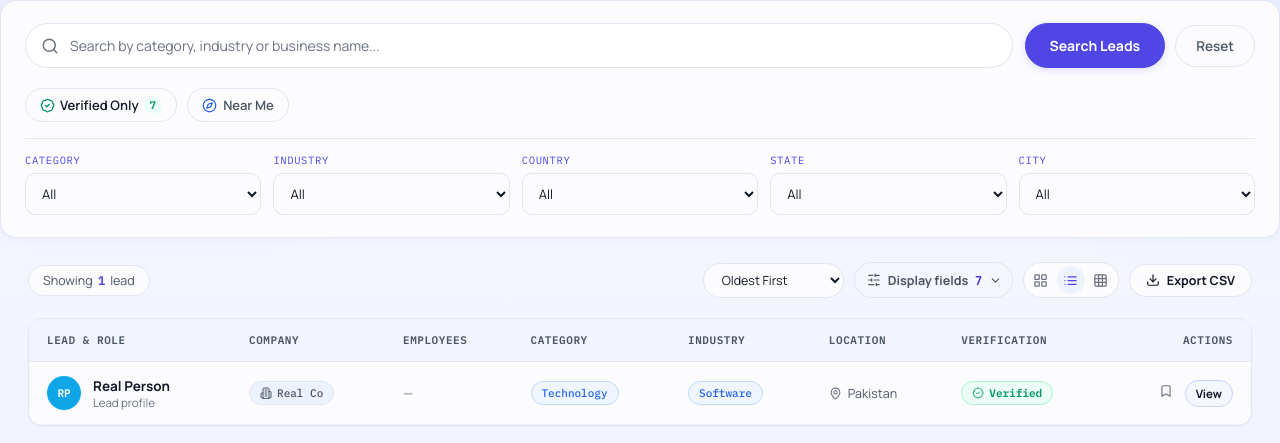
Test: DirectoryPage filters reach the API › sends the selected category
Expected: the text "Real Person" is shown, [93,376,170,394]
Select "Technology (12)" in the 1st dropdown with class "app-filter-dropdown-select" at (143, 194), box [25,173,261,215]
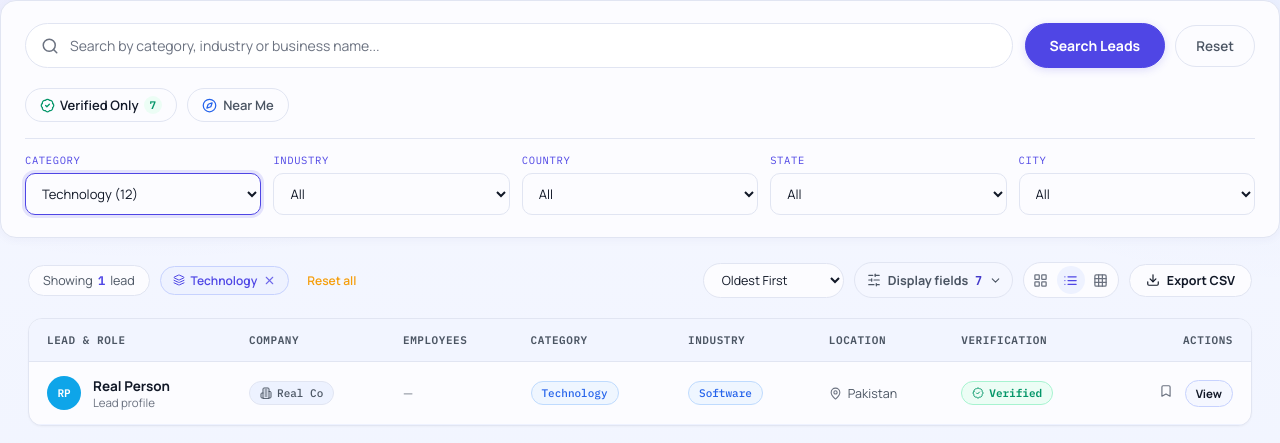
Expected: the element showing "Technology" is shown, [160,266,289,294]
